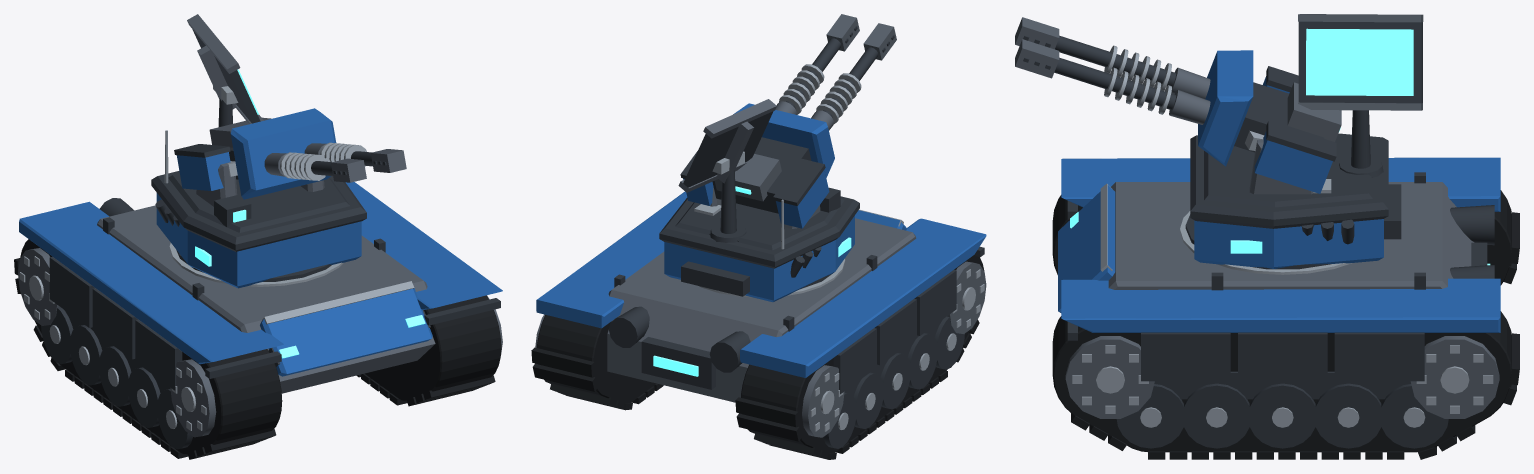
File: halberd-aa-tank.glb
3 renders of one model, left to right at view 1: azimuth 30°, elevation 25°; view 2: azimuth 150°, elevation 25°; view 3: azimuth 270°, elevation 25°, orthographic. The views are drawn at different scales.
Visible parts, largest first — view 1: fender, suspension_beam, rear_drive, track_belt, wheel_hub_0, bow_glow; view 2: suspension_beam, fender, rear_drive, track_belt, wheel_hub_0, bow_glow; view 3: suspension_beam, fender, rear_drive, track_belt, wheel_hub_0, bow_glow.
Boxes of the visible parts, x1,y1,x2,y2 form: fender: [19, 108, 502, 376]; suspension_beam: [41, 29, 500, 449]; rear_drive: [18, 14, 502, 437]; track_belt: [14, 239, 501, 459]; wheel_hub_0: [19, 86, 414, 430]; bow_glow: [195, 69, 425, 358]; suspension_beam: [609, 26, 984, 448]; fender: [536, 103, 986, 377]; rear_drive: [535, 14, 986, 437]; track_belt: [531, 254, 984, 459]; wheel_hub_0: [694, 64, 984, 431]; bow_glow: [653, 186, 851, 376]; suspension_beam: [1023, 21, 1494, 448]; fender: [1058, 50, 1500, 332]; rear_drive: [1015, 14, 1499, 418]; track_belt: [1052, 190, 1519, 459]; wheel_hub_0: [1072, 45, 1493, 427]; bow_glow: [1070, 28, 1490, 265].
Size of the model in its own units: 5.38 by 5.58 by 6.98.
